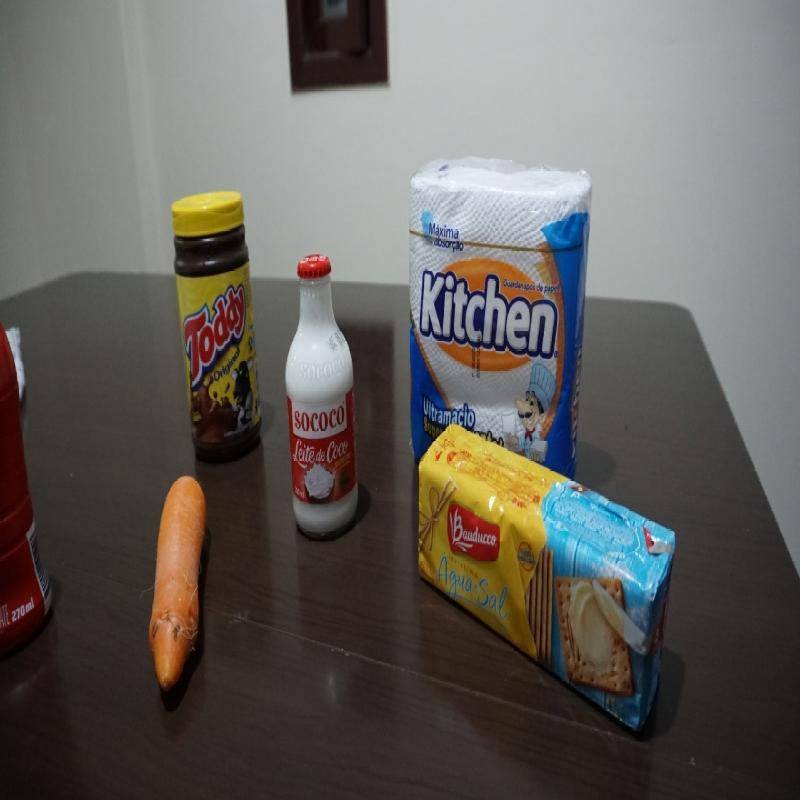Carrot: (148, 474, 209, 698)
Chocolate Milk: (1, 312, 57, 668)
Chocolate Powder: (169, 189, 264, 464)
Coconut Milk: (283, 251, 358, 538)
Cracker: (416, 423, 677, 732)
Napkin: (406, 154, 594, 424)
